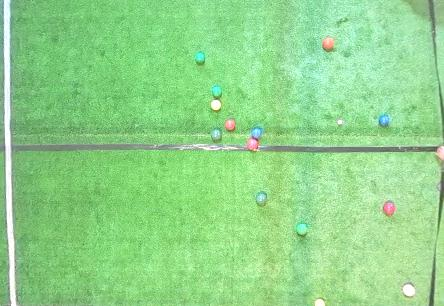blue: (251, 128, 262, 139), (379, 115, 389, 126)
green: (296, 223, 309, 235), (194, 52, 206, 64), (211, 86, 222, 98), (256, 192, 268, 203), (211, 129, 222, 140)
red: (402, 283, 416, 297), (383, 201, 396, 216), (246, 138, 258, 151), (322, 37, 333, 50), (224, 119, 235, 131)
vline: (0, 1, 21, 305), (427, 1, 443, 145), (428, 162, 444, 305)
white: (338, 120, 342, 125)
yellow: (210, 99, 222, 111), (314, 298, 328, 305)
